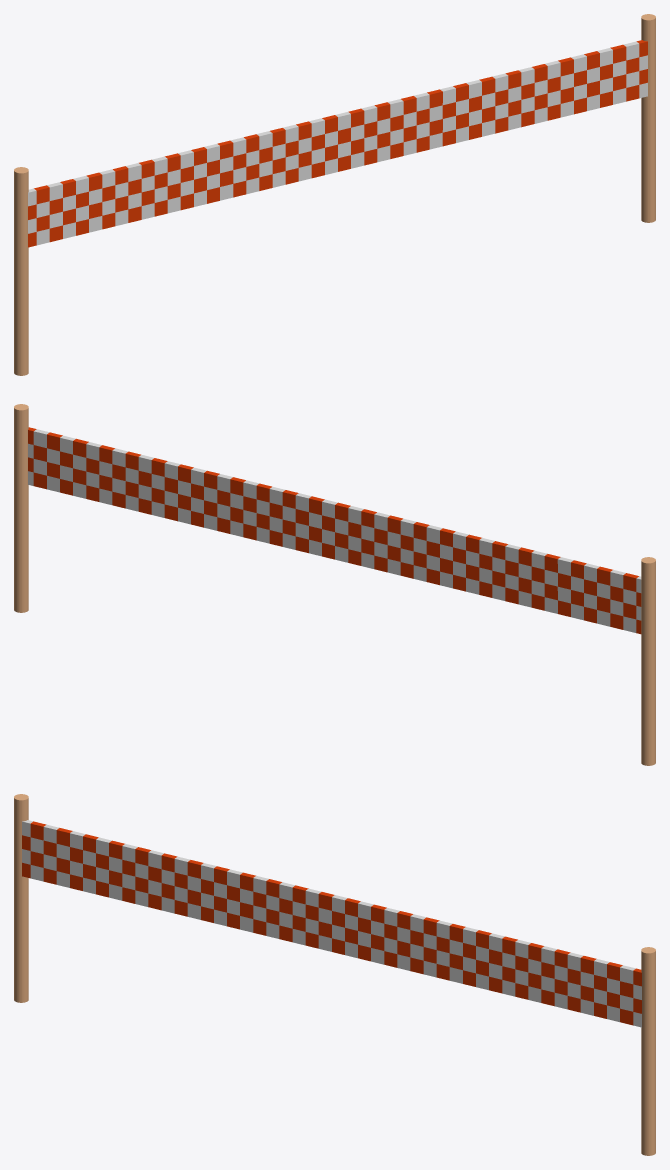
The model's file is checker.fbx.
3 renders of one model, top to bottom at view 1: azimuth 30°, elevation 25°; view 2: azimuth 150°, elevation 25°; view 3: azimuth 330°, elevation 25°, orthographic.
Visible parts, largest first — view 1: Cube.011; view 2: Cube.011; view 3: Cube.011.
Part boxes in pixels (x1=…): Cube.011: x1=14, y1=14, x2=655, y2=375; Cube.011: x1=14, y1=404, x2=655, y2=765; Cube.011: x1=14, y1=794, x2=655, y2=1155.
Size of the model in its own units: 4886 by 1477 by 98.15.
